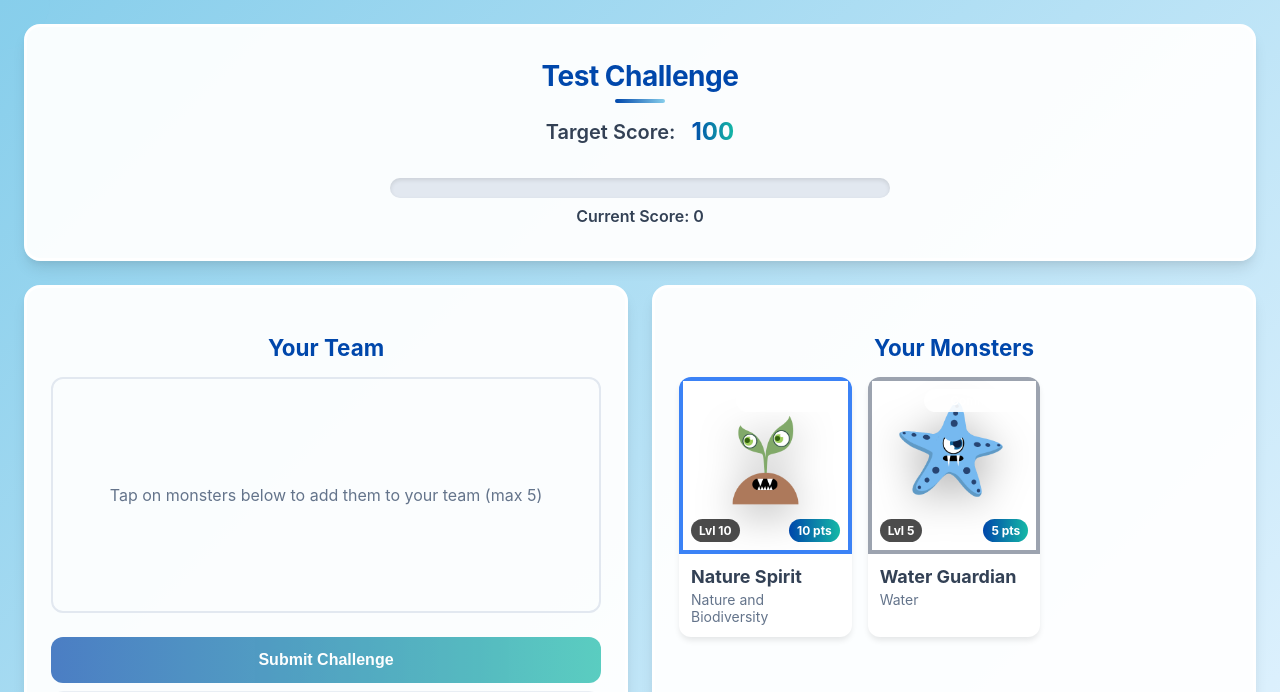
Test: MonsterChallengePage Component › adds monster to team when clicked
Expected: the text "Tap on monsters below to add them to your team (max 5)" is shown, [110,485,542,505]
Click on a monster to add it to the team
Click the heading "Nature Spirit": (746, 576) [691,566,802,587]
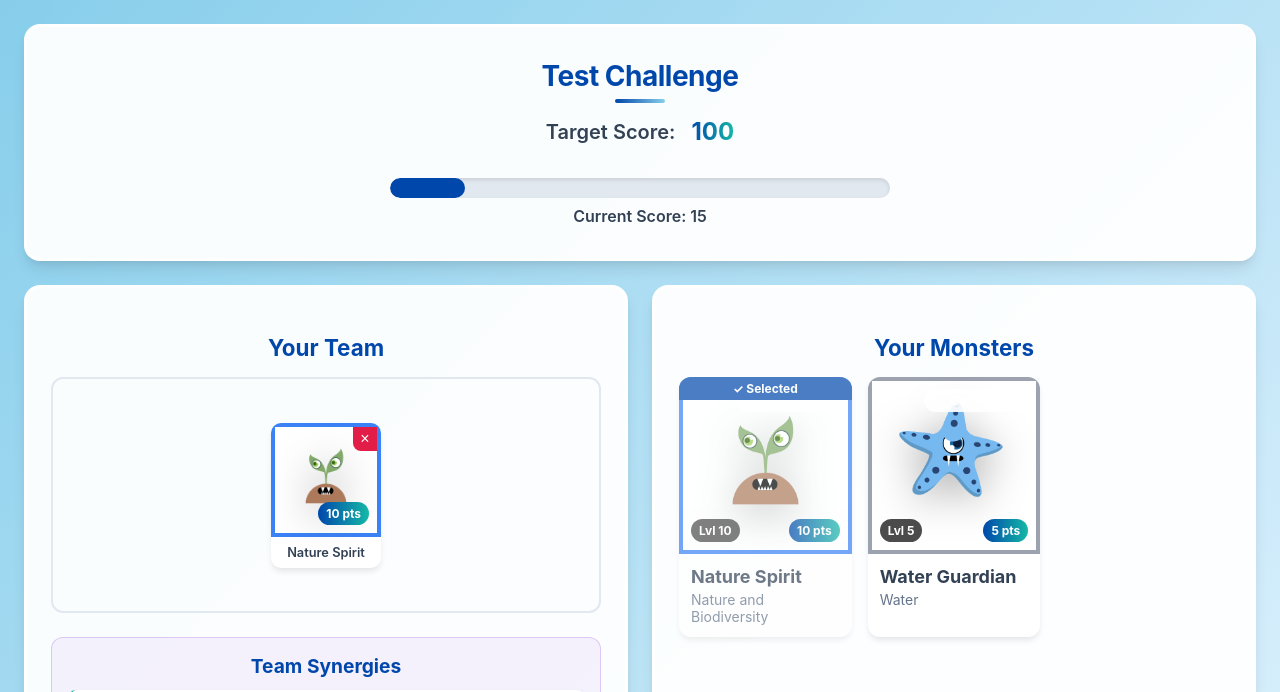
Expected: the text "Current Score: 15" is shown, [573,206,707,226]
